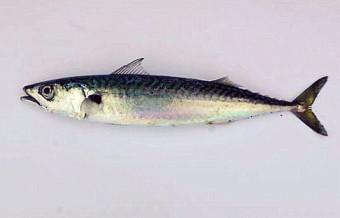fish: (21, 58, 327, 135)
